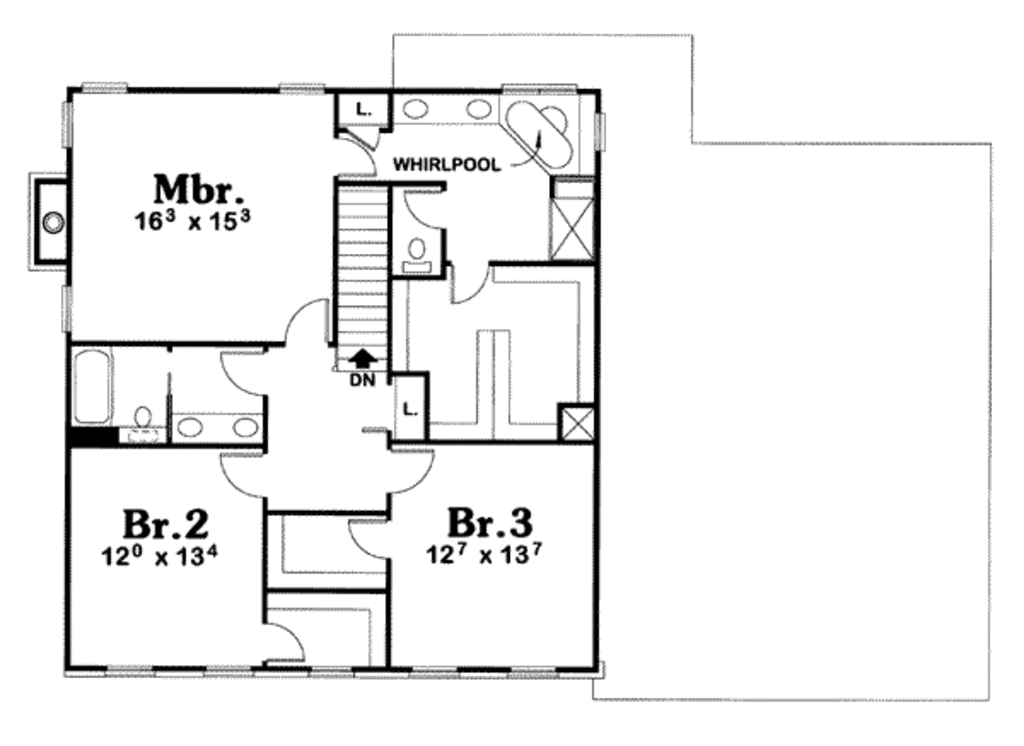door: (211, 347, 278, 399), (282, 296, 337, 350), (389, 447, 438, 498), (331, 134, 384, 181), (218, 449, 267, 498), (347, 512, 389, 567), (443, 260, 492, 305), (266, 614, 309, 662)
large_sink: (120, 403, 169, 450), (395, 231, 440, 281)
small_sink: (386, 91, 503, 129), (168, 408, 275, 445)
stairs: (330, 176, 395, 378)
tub: (500, 86, 592, 179), (69, 342, 115, 425)
window: (73, 77, 134, 101), (57, 280, 79, 341), (201, 659, 253, 684), (409, 659, 461, 682), (101, 659, 159, 679), (271, 81, 331, 98), (592, 113, 612, 155), (505, 665, 562, 678)
